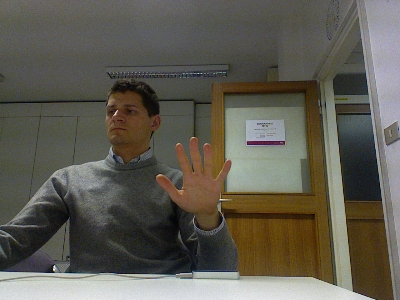布: (153, 135, 233, 214)
